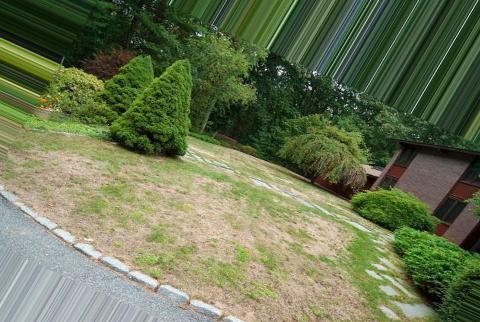patch: (44, 164, 122, 223), (139, 177, 209, 237), (155, 241, 241, 278), (258, 262, 313, 298), (219, 192, 256, 227), (274, 220, 315, 251), (320, 280, 350, 304), (224, 285, 254, 307), (268, 302, 297, 318), (116, 230, 132, 247)
